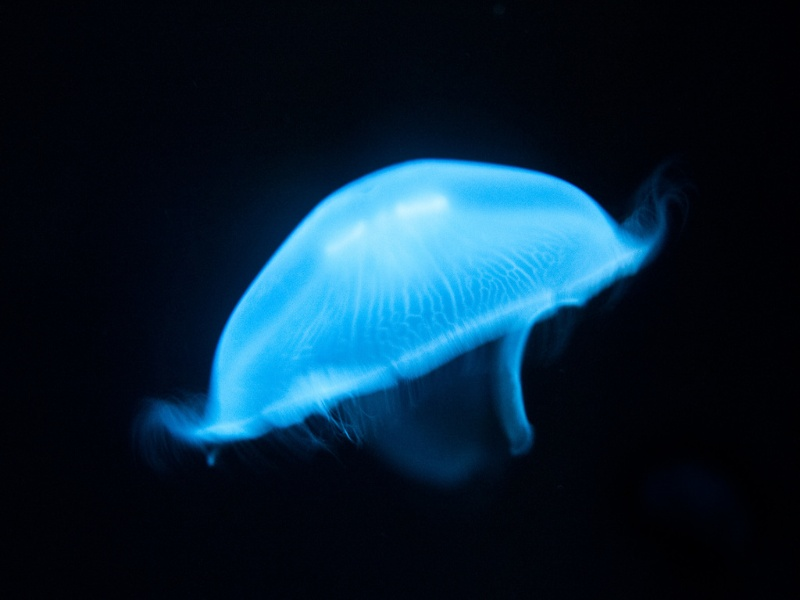Jellyfish: (127, 154, 683, 488)
